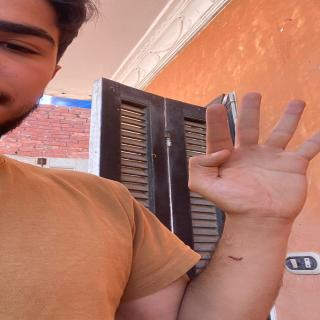SHEEN: (192, 92, 320, 218)
